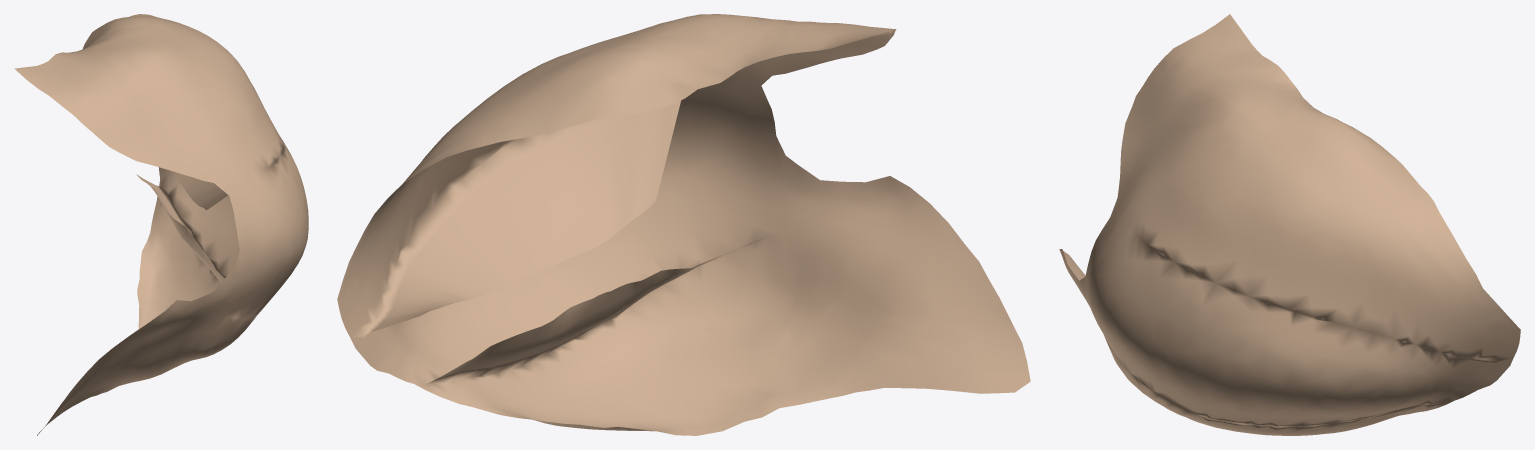
The picture shows the model from 3 angles, left to right: view 1: azimuth 30°, elevation 25°; view 2: azimuth 150°, elevation 25°; view 3: azimuth 270°, elevation 25°; orthographic projection. The views are drawn at different scales.
Visible parts, largest first — view 1: 左侧三角肌筋膜; view 2: 左侧三角肌筋膜; view 3: 左侧三角肌筋膜.
Part boxes in pixels (x1,y1,x2,y2): 左侧三角肌筋膜: [14, 14, 308, 435]; 左侧三角肌筋膜: [337, 14, 1030, 435]; 左侧三角肌筋膜: [1059, 14, 1520, 435].
Bounding box in the file's own units: 0.2118 × 0.1952 × 0.2393.
